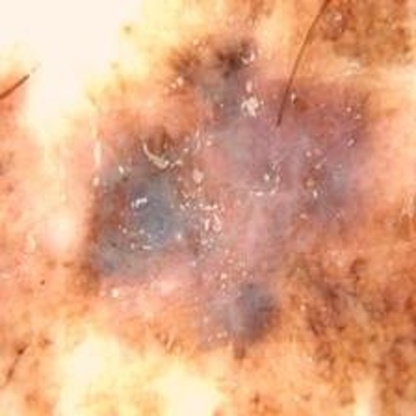malignant: (105, 54, 344, 309), (289, 213, 410, 405), (273, 5, 408, 91)
